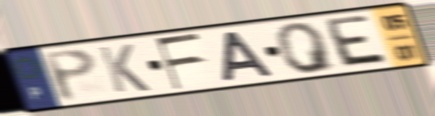A: (222, 29, 277, 84)
E: (323, 13, 392, 69)
F: (153, 31, 206, 93)
K: (95, 43, 153, 95)
P: (39, 46, 99, 104)
Q: (273, 20, 340, 76)
